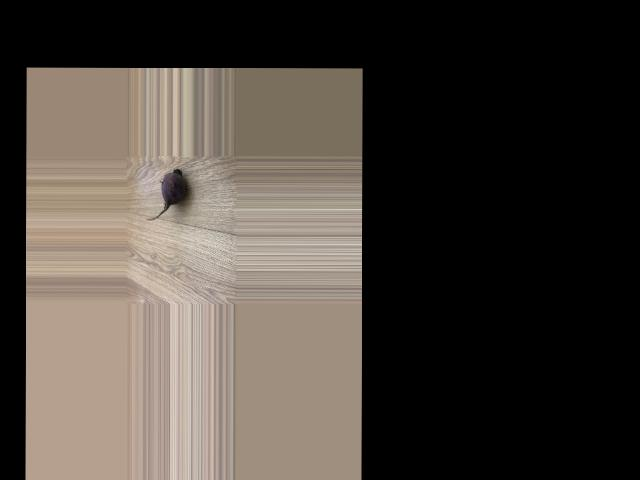beet: (146, 169, 185, 221)
